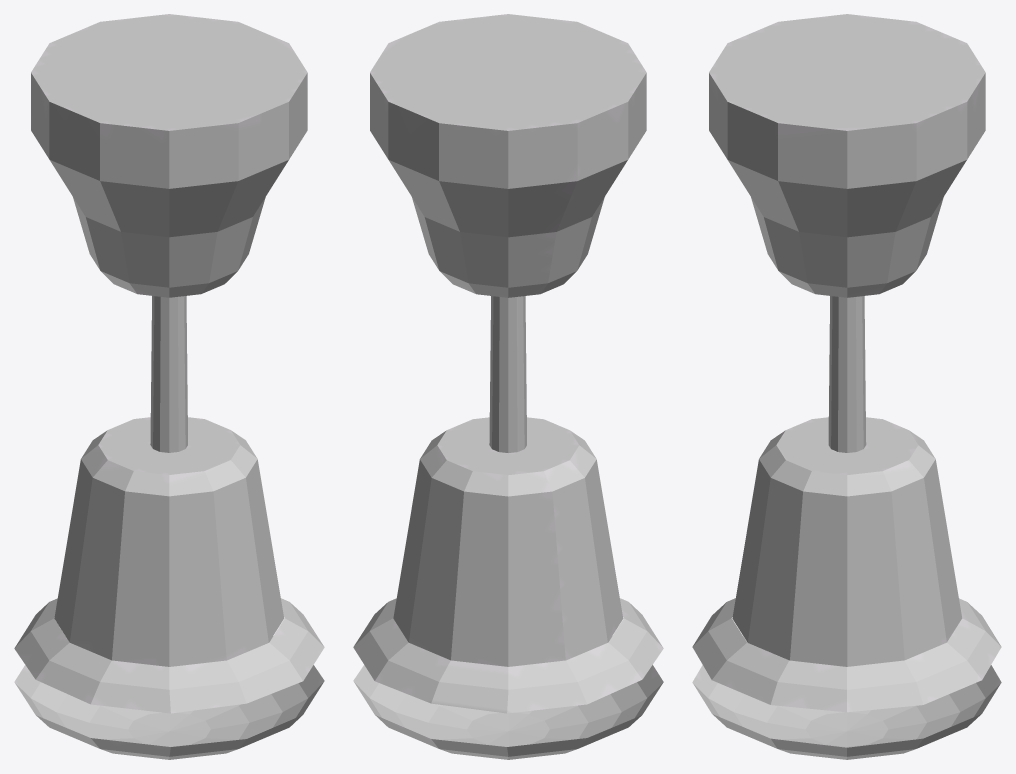
File: CeilingFanSupport.fbx
The picture shows the model from 3 angles, left to right: view 1: azimuth 30°, elevation 25°; view 2: azimuth 150°, elevation 25°; view 3: azimuth 270°, elevation 25°; orthographic projection.
Visible parts, largest first — view 1: FanBase, FanBladesBase; view 2: FanBase, FanBladesBase; view 3: FanBase, FanBladesBase.
Part boxes in pixels (x1=…): FanBase: x1=31, y1=14, x2=307, y2=666; FanBladesBase: x1=14, y1=598, x2=324, y2=759; FanBase: x1=370, y1=14, x2=646, y2=666; FanBladesBase: x1=353, y1=598, x2=663, y2=759; FanBase: x1=709, y1=14, x2=985, y2=666; FanBladesBase: x1=692, y1=598, x2=1001, y2=759.
Size of the model in its own units: 101 by 236 by 101.
